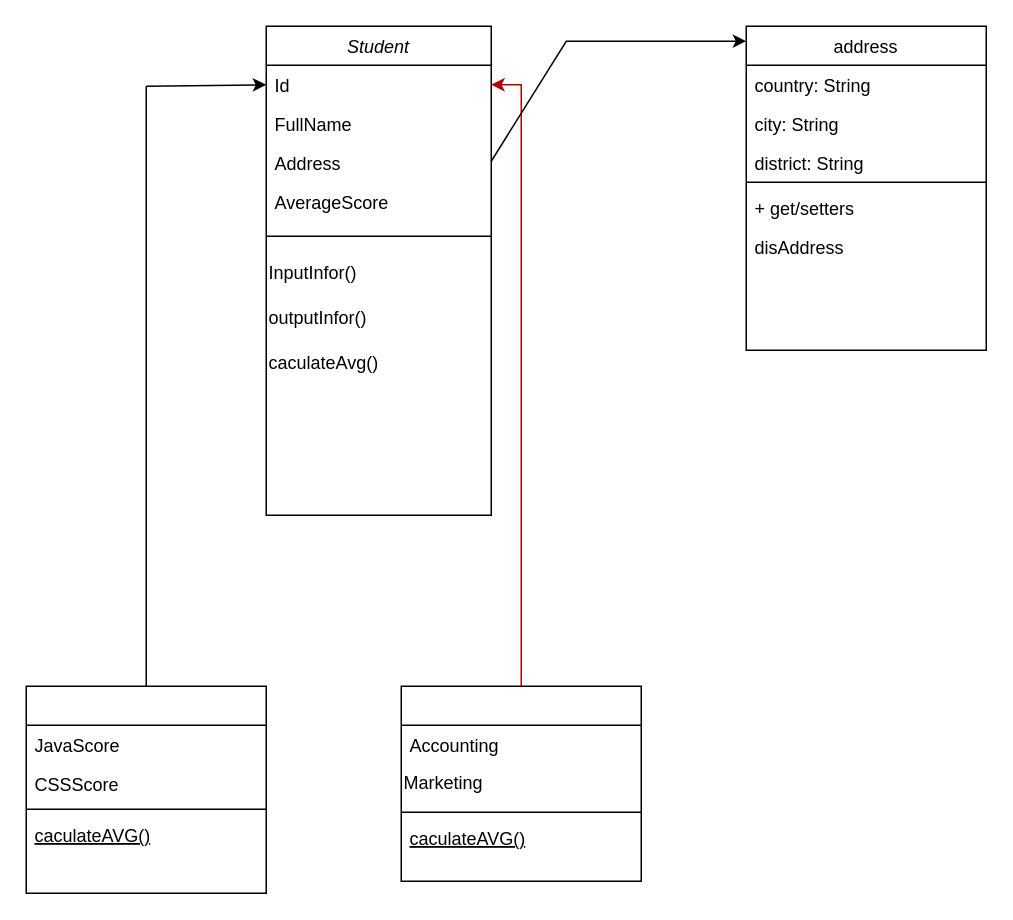
Some shapes in this 1013 by 920 pixel diagram are drawn without their labels. Each missing label, with the box of its shape:
BizStudent: (400, 685, 641, 881)
ITStudent: (25, 685, 266, 893)
